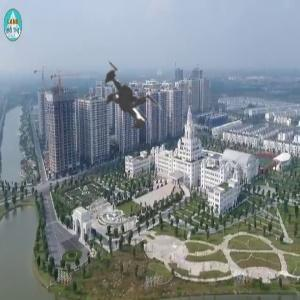drone: (60, 41, 189, 170)
